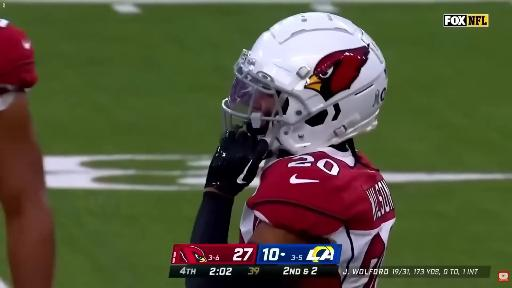Helmet: (222, 13, 387, 154)
Jersey: (240, 148, 394, 287), (0, 19, 37, 109)
Player: (187, 13, 394, 287), (0, 19, 54, 287)
